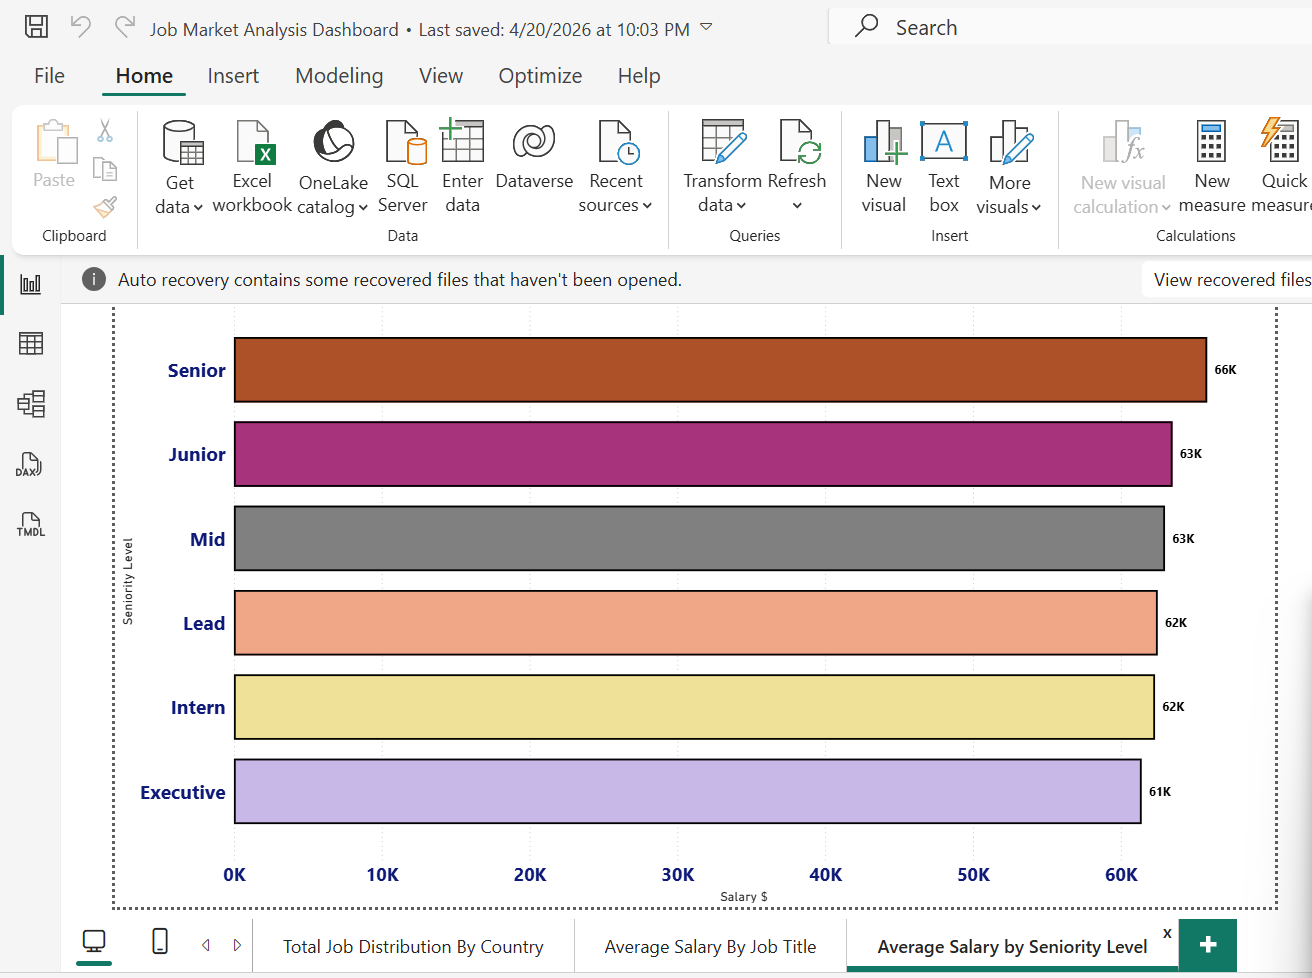

This screenshot's page, from the dashboard's own definition file:
{"tool":"powerbi","page":{"name":"Average Salary by Seniority Level","canvas":[1280,720],"ordinal":2},"visuals":[{"type":"clusteredBarChart","title":"Average Salary by Seniority Level","fields":{"Category":["Average Salary by Seniority Lev.senior"],"Y":["Sum(Average Salary by Seniority Lev.Average of salary_usd)"]},"box":[0,0,1280.5,720.6],"z":0}]}

Visuals, with their boxes on the page's 1280x720 design canvas (x1, y1, x2, y2). These are canvas units, not pixel positions in the 1312x978 screenshot, which may show the page scaled, cropped or inside an application window:
"Average Salary by Seniority Level" clusteredBarChart: [x1=0, y1=0, x2=1280, y2=721]
